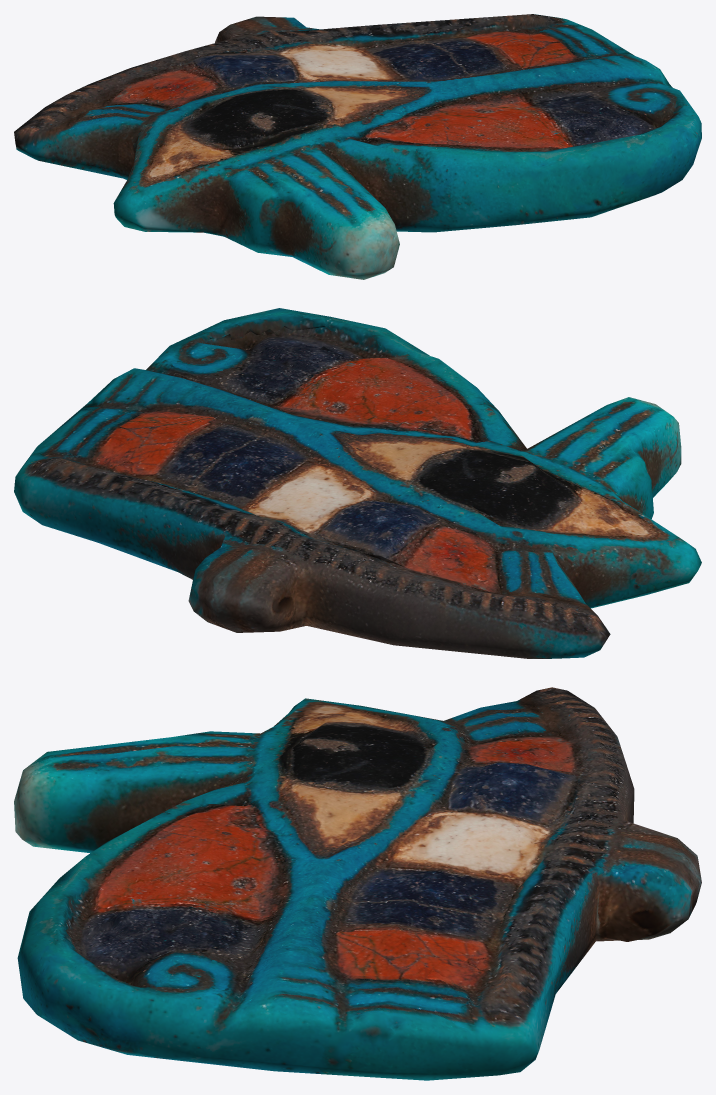
Rendered from EyeOfRah.fbx.
3 renders of one model, top to bottom at view 1: azimuth 30°, elevation 25°; view 2: azimuth 150°, elevation 25°; view 3: azimuth 270°, elevation 25°, orthographic. The views are drawn at different scales.
Parts seen in each view (by area): view 1: EyeOfRah_LOD0; view 2: EyeOfRah_LOD0; view 3: EyeOfRah_LOD0.
Boxes of the visible parts, <box> form: EyeOfRah_LOD0: <box>14,14,701,279</box>; EyeOfRah_LOD0: <box>14,308,701,658</box>; EyeOfRah_LOD0: <box>14,687,701,1080</box>.
Size of what is drawn, in the model's own units: 46.77 by 7.3 by 38.8.
